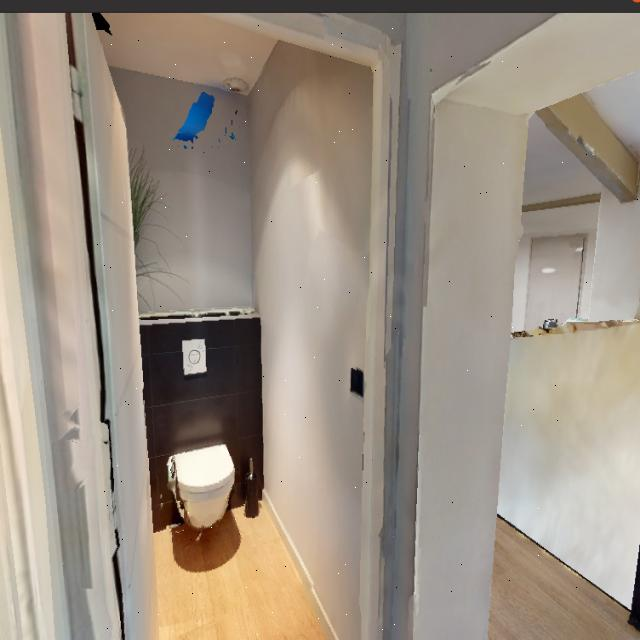door-frame: (86, 15, 405, 640), (429, 49, 640, 640)
toilet: (157, 405, 247, 545)
